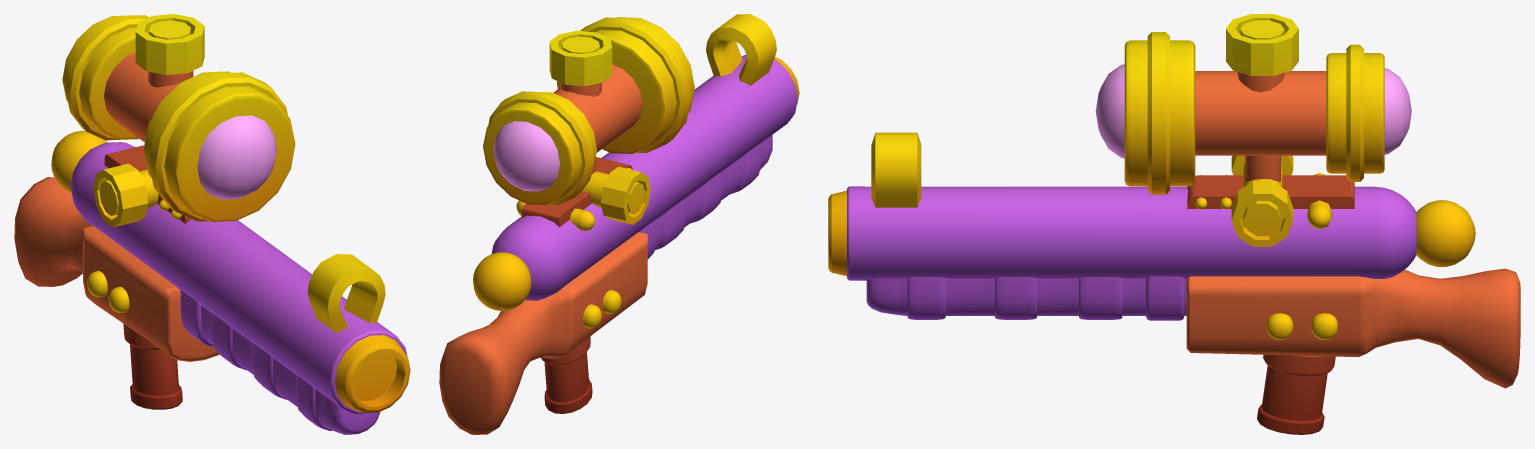
Rendered from Sniper.fbx.
3 renders of one model, left to right at view 1: azimuth 30°, elevation 25°; view 2: azimuth 150°, elevation 25°; view 3: azimuth 270°, elevation 25°, orthographic. The views are drawn at different scales.
Parts seen in each view (by area): view 1: Sniper; view 2: Sniper; view 3: Sniper.
Boxes of the visible parts, x1,y1,x2,y2 form: Sniper: (14,14,410,434); Sniper: (439,14,799,434); Sniper: (828,14,1520,434).
Bounding box in the file's own units: 27.73 × 75.01 × 118.
Materials: 1 (1 with a texture image).
